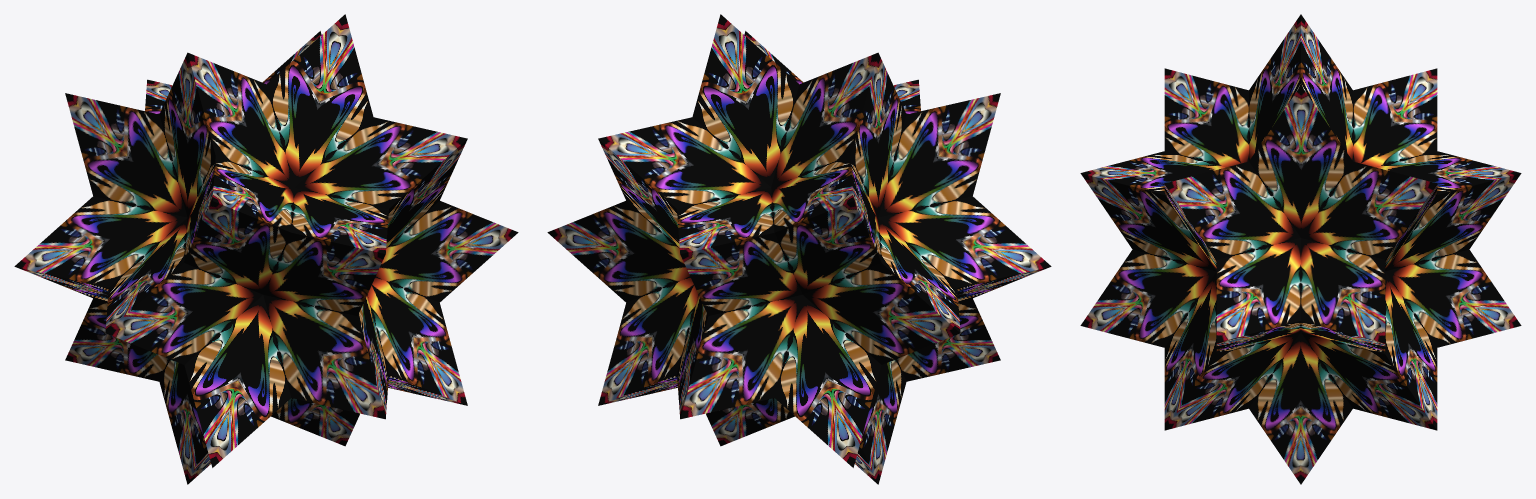
The model's file is RhombicHexecontahedron9.obj.
3 renders of one model, left to right at view 1: azimuth 30°, elevation 25°; view 2: azimuth 150°, elevation 25°; view 3: azimuth 270°, elevation 25°, orthographic. The views are drawn at different scales.
Size of the model in its own units: 4.45 by 4.45 by 4.45.
1 material, 1 textured.
